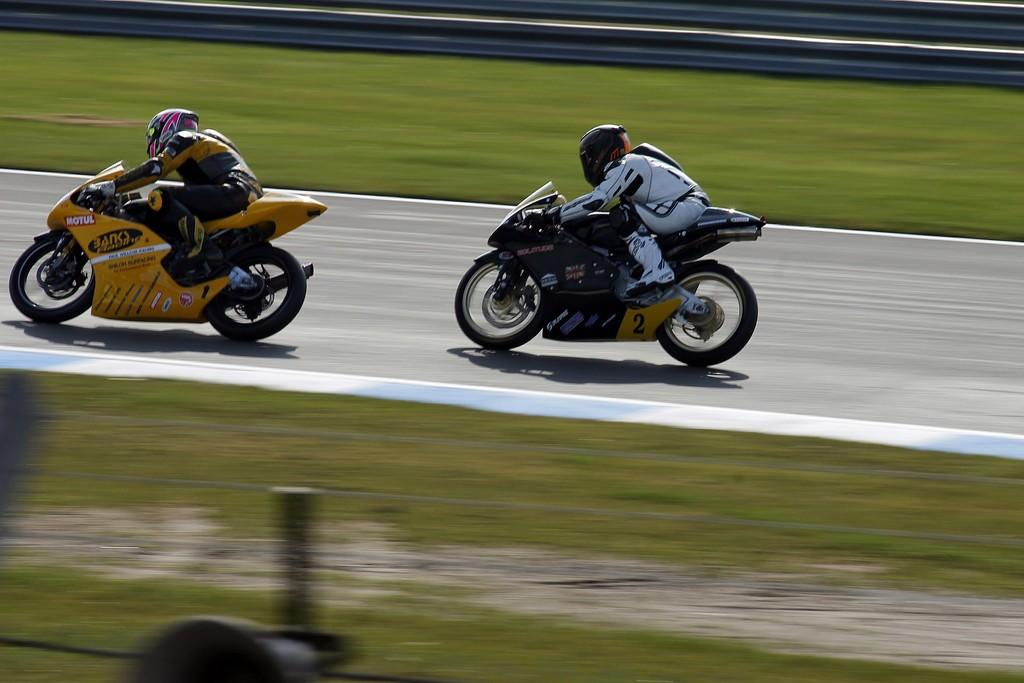helmet: (579, 123, 632, 188), (145, 108, 200, 162)
